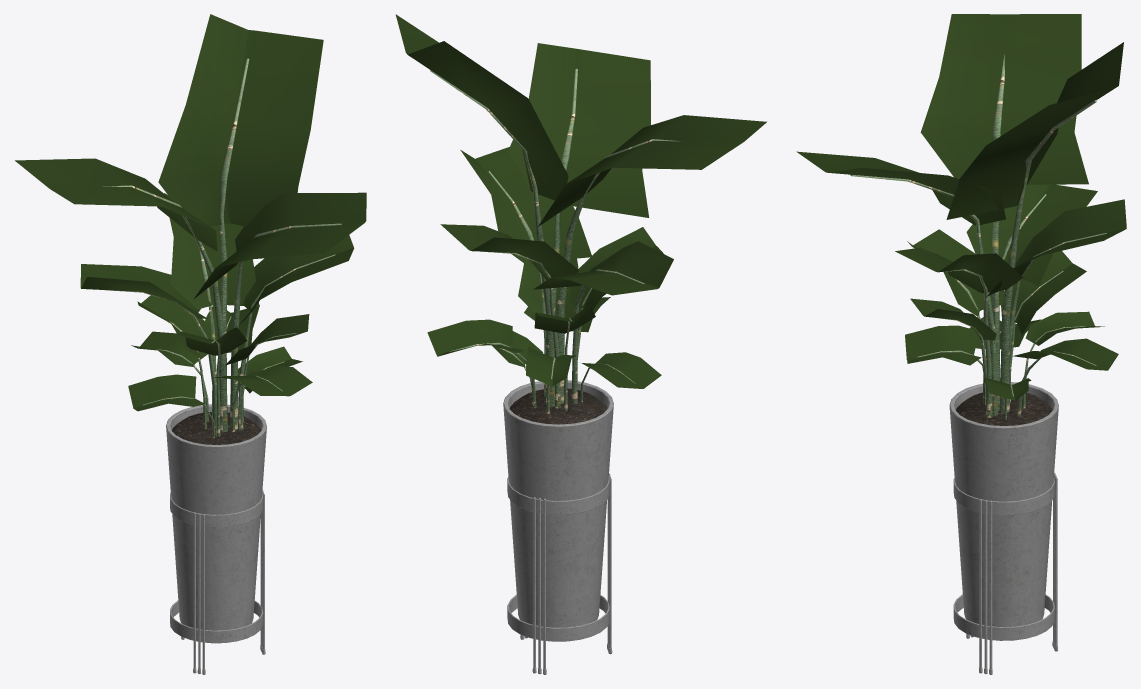
File: plant2.gltf
3 renders of one model, left to right at view 1: azimuth 30°, elevation 25°; view 2: azimuth 150°, elevation 25°; view 3: azimuth 270°, elevation 25°, orthographic. The views are drawn at different scales.
Parts seen in each view (by area): view 1: leaves_geo, potBase_geo, stems_geo, potMetal_geo, dirt_geo; view 2: leaves_geo, potBase_geo, stems_geo, potMetal_geo, dirt_geo; view 3: leaves_geo, potBase_geo, stems_geo, potMetal_geo, dirt_geo.
Boxes of the visible parts, x1,y1,x2,y2 form: leaves_geo: (15,14,366,411); potBase_geo: (166,404,266,630); stems_geo: (103,58,341,438); potMetal_geo: (170,490,265,674); dirt_geo: (172,412,260,444); leaves_geo: (395,14,766,388); potBase_geo: (503,380,613,627); stems_geo: (430,69,680,413); potMetal_geo: (507,473,612,674); dirt_geo: (509,388,607,424); leaves_geo: (796,14,1126,400); potBase_geo: (949,382,1058,626); stems_geo: (850,54,1106,419); potMetal_geo: (953,472,1057,674); dirt_geo: (956,392,1052,425).
Bounding box in the file's own units: 0.7717 × 1.47 × 0.6888.
4 materials, 4 textured.
